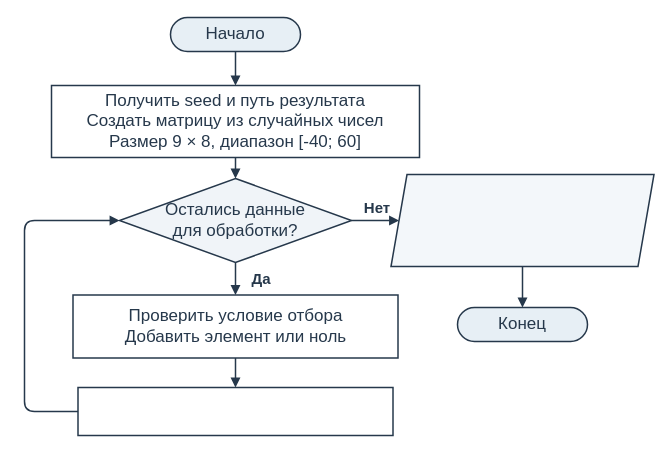
This 672x454 diagram has some shape labels left out. Here are the shapes that lost their labels. From the top down, the centre of each, then its label:
(x=522, y=220): Вывести исходную и преобразованную матрицы и итог задачи Записать вывод в файл
(x=235, y=411): Перейти к следующим данным
